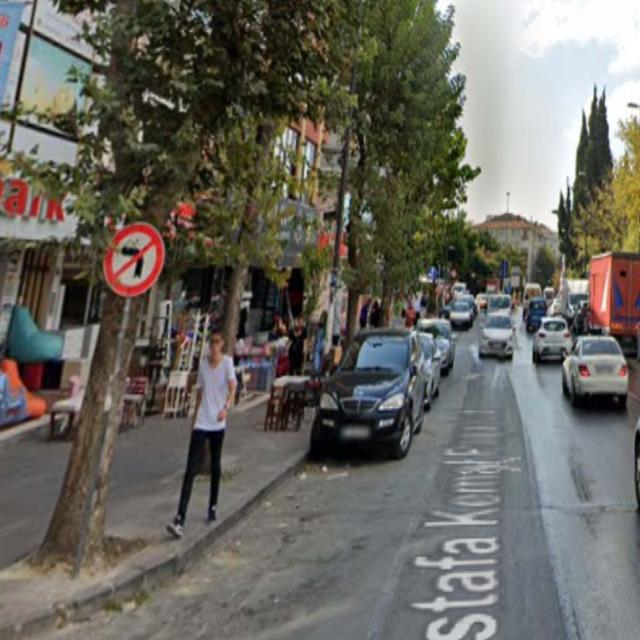soladonulmez: (105, 223, 162, 298)
